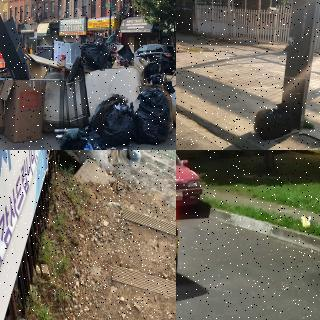Garbage: (91, 92, 138, 147), (131, 84, 172, 144), (249, 104, 298, 142), (82, 39, 111, 70), (142, 55, 161, 81), (117, 45, 134, 66), (122, 150, 144, 164), (300, 213, 315, 232)
